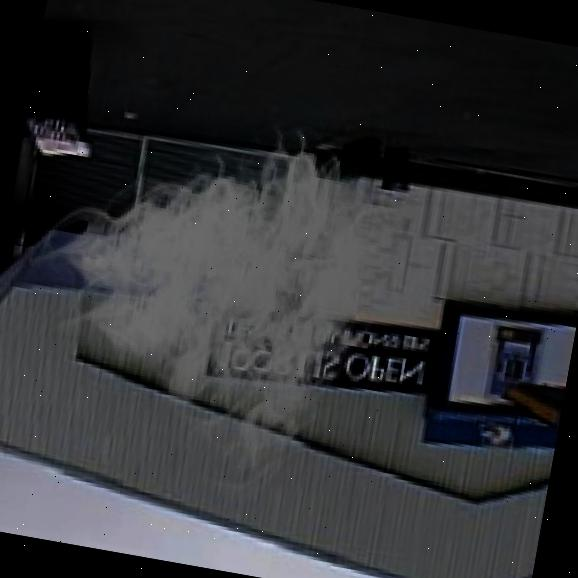smoke: (0, 71, 431, 527)
